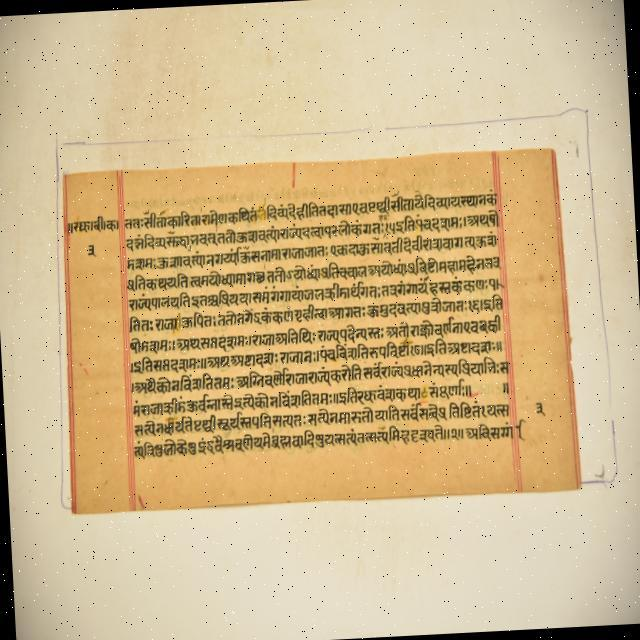text_paragraph: (63, 150, 578, 513)
